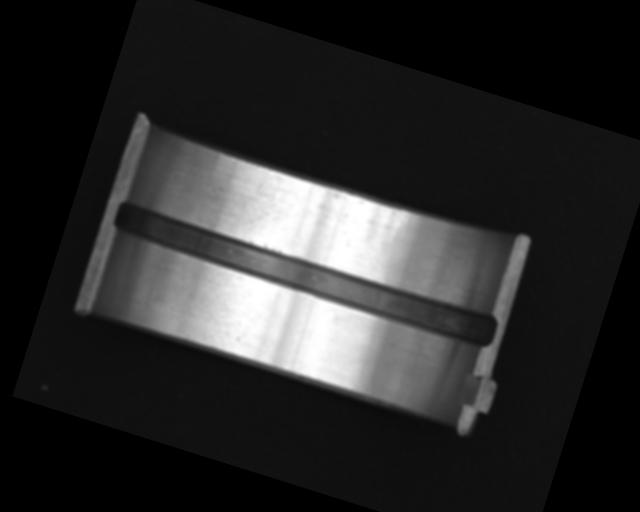gap: (108, 194, 503, 352)
